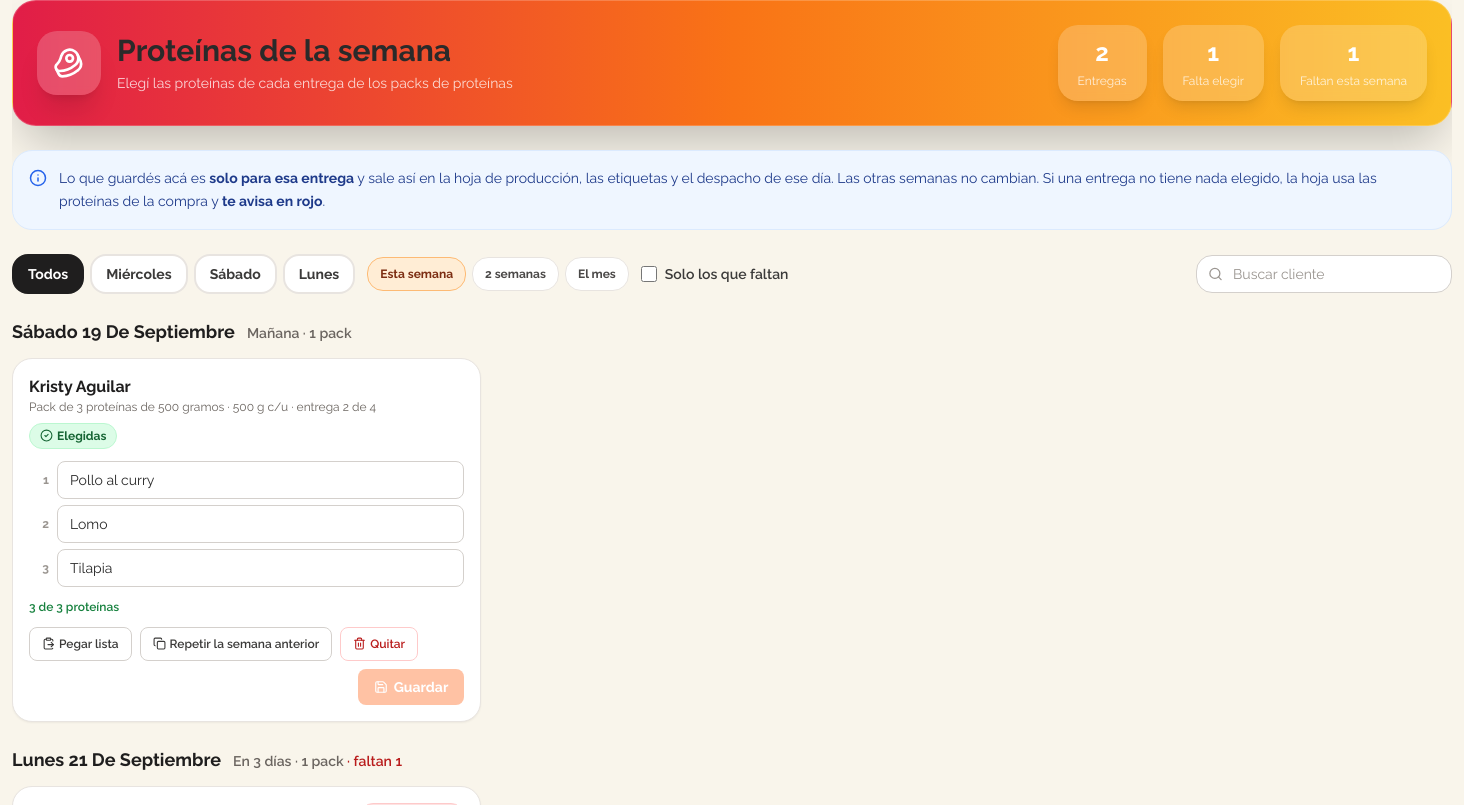
Scenario: Proteínas de la semana › el filtro de día deja solo el lunes
Click the button "Lunes". click: coordinates (319, 274)
box: [283, 254, 355, 294]
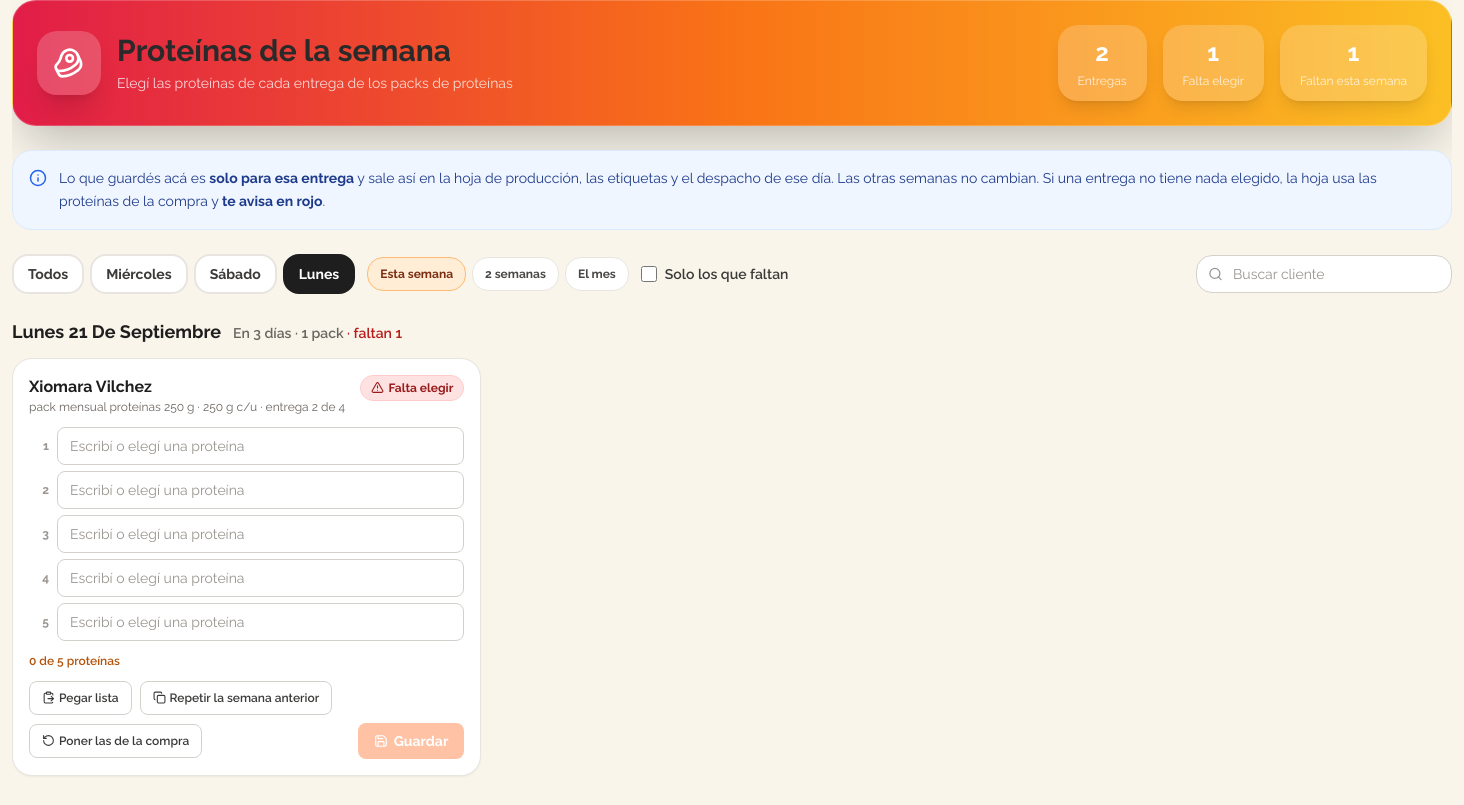
Expected: the heading "Xiomara Vilchez" is shown, [29, 376, 152, 396]
Now the heading "Kristy Aguilar" is gone
